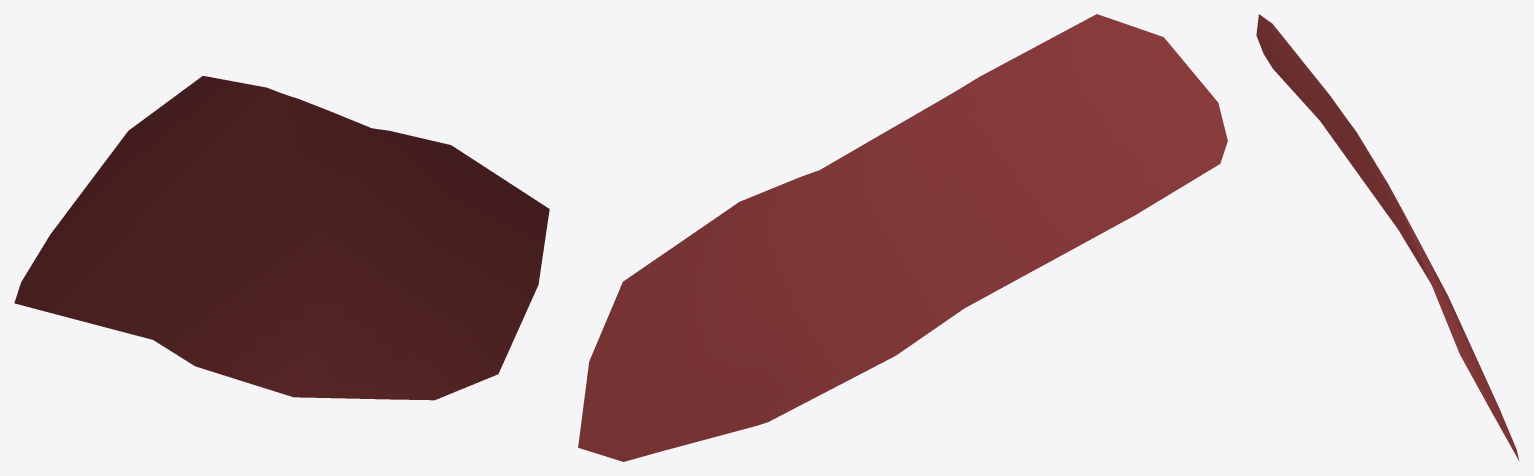
File: levatores-longi-costarum-e10l.glb
The picture shows the model from 3 angles, left to right: view 1: azimuth 30°, elevation 25°; view 2: azimuth 150°, elevation 25°; view 3: azimuth 270°, elevation 25°; orthographic projection. The views are drawn at different scales.
Visible parts, largest first — view 1: Levatores longi costarum.e10l; view 2: Levatores longi costarum.e10l; view 3: Levatores longi costarum.e10l.
Part boxes in pixels (x1,y1,x2,y2): Levatores longi costarum.e10l: (14, 76, 549, 400); Levatores longi costarum.e10l: (578, 14, 1227, 461); Levatores longi costarum.e10l: (1256, 14, 1519, 460).
Bounding box in the file's own units: 0.00801 × 0.00637 × 0.00491.
